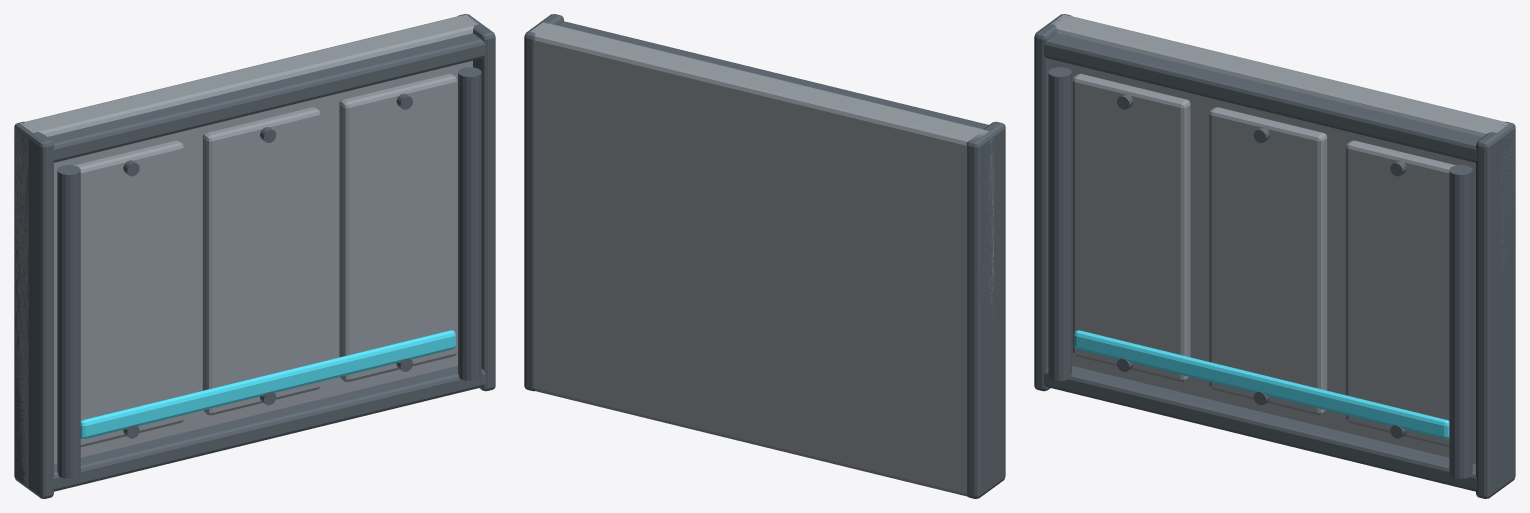
Rendered from 1_Wall.fbx.
3 renders of one model, left to right at view 1: azimuth 30°, elevation 25°; view 2: azimuth 150°, elevation 25°; view 3: azimuth 330°, elevation 25°, orthographic.
Parts seen in each view (by area): view 1: Body; view 2: Body; view 3: Body.
Part boxes in pixels (left/top/right/bottom): Body: left=14, top=14, right=495, bottom=498; Body: left=524, top=14, right=1005, bottom=498; Body: left=1034, top=14, right=1515, bottom=498.
Bounding box in the file's own units: 4 × 3 × 0.535.
